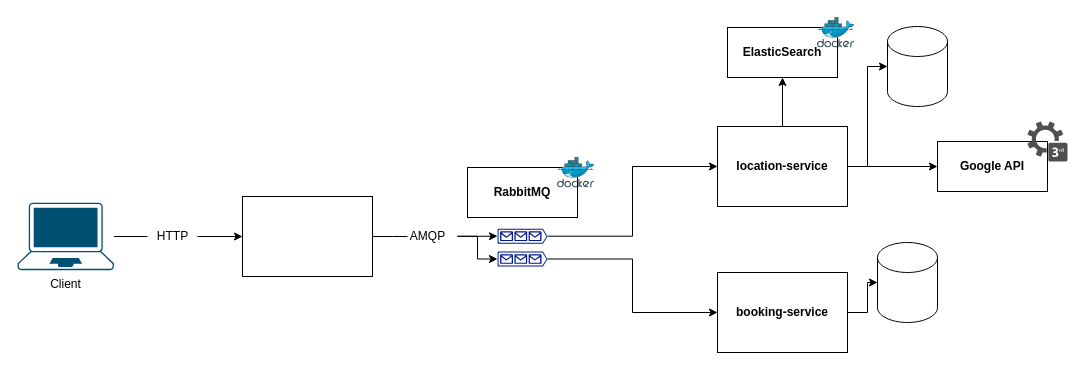
This 1084x370 diagram has some shape labels left out. Each missing label, with the box of its shape:
MongoDB: (886, 26, 948, 106)
Postgres: (876, 242, 938, 322)
reception-service: (242, 196, 372, 276)
